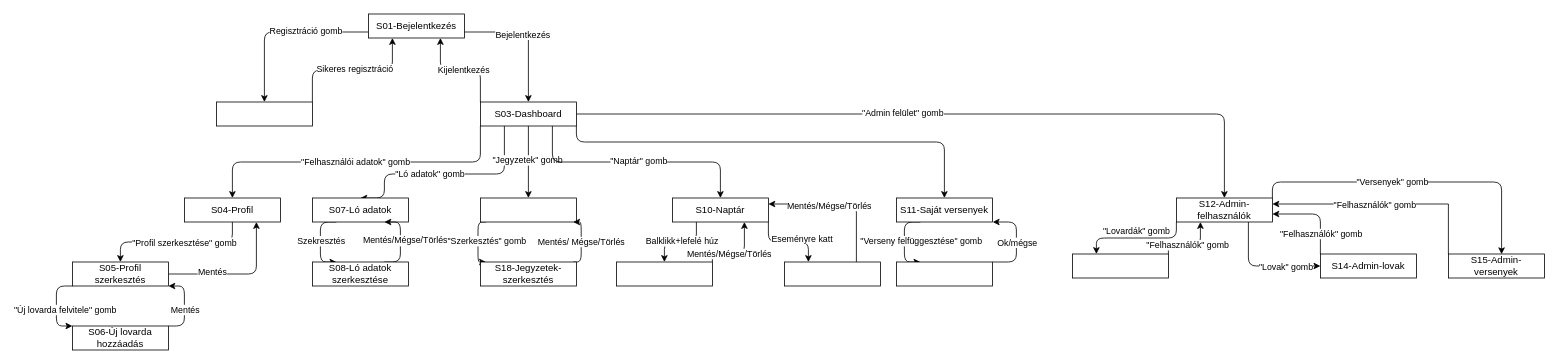
Image size: 1558x364. Some labels were removed from this diagram. The shapes that lost their labels are listed below. From the top down, each one's centre as x and y in pixels, then its label:
point (264, 113): S02-Regisztráció
point (528, 209): S09-Jegyzetek
point (664, 273): S16-Naptár-esemény felvétel
point (832, 273): S17-Naptár-esemény szerkesztés
point (944, 273): S19-Saját versenyek-törlés
point (1120, 265): S13-Admin-lovardák
